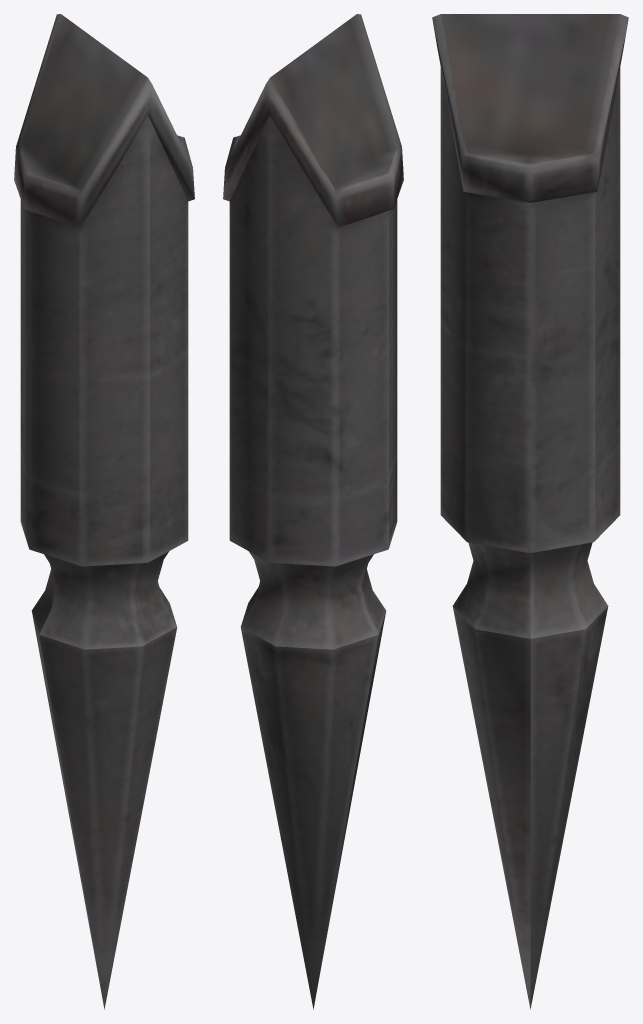
File: sm_dwarf_iron_mattock_pommel_b.fbx
3 views of the same model, side by side, from view 1: azimuth 30°, elevation 25°; view 2: azimuth 150°, elevation 25°; view 3: azimuth 270°, elevation 25° (orthographic). The views are drawn at different scales.
Visible parts, largest first — view 1: sm_dwarf_iron_mattock_pommel_b; view 2: sm_dwarf_iron_mattock_pommel_b; view 3: sm_dwarf_iron_mattock_pommel_b.
Part boxes in pixels (x1,y1,x2,y2): sm_dwarf_iron_mattock_pommel_b: [14, 14, 194, 1009]; sm_dwarf_iron_mattock_pommel_b: [223, 14, 403, 1009]; sm_dwarf_iron_mattock_pommel_b: [432, 14, 628, 1009].
Size of the model in its own units: 0.0693 by 0.0713 by 0.3981.
Materials: 1 (1 with a texture image).
